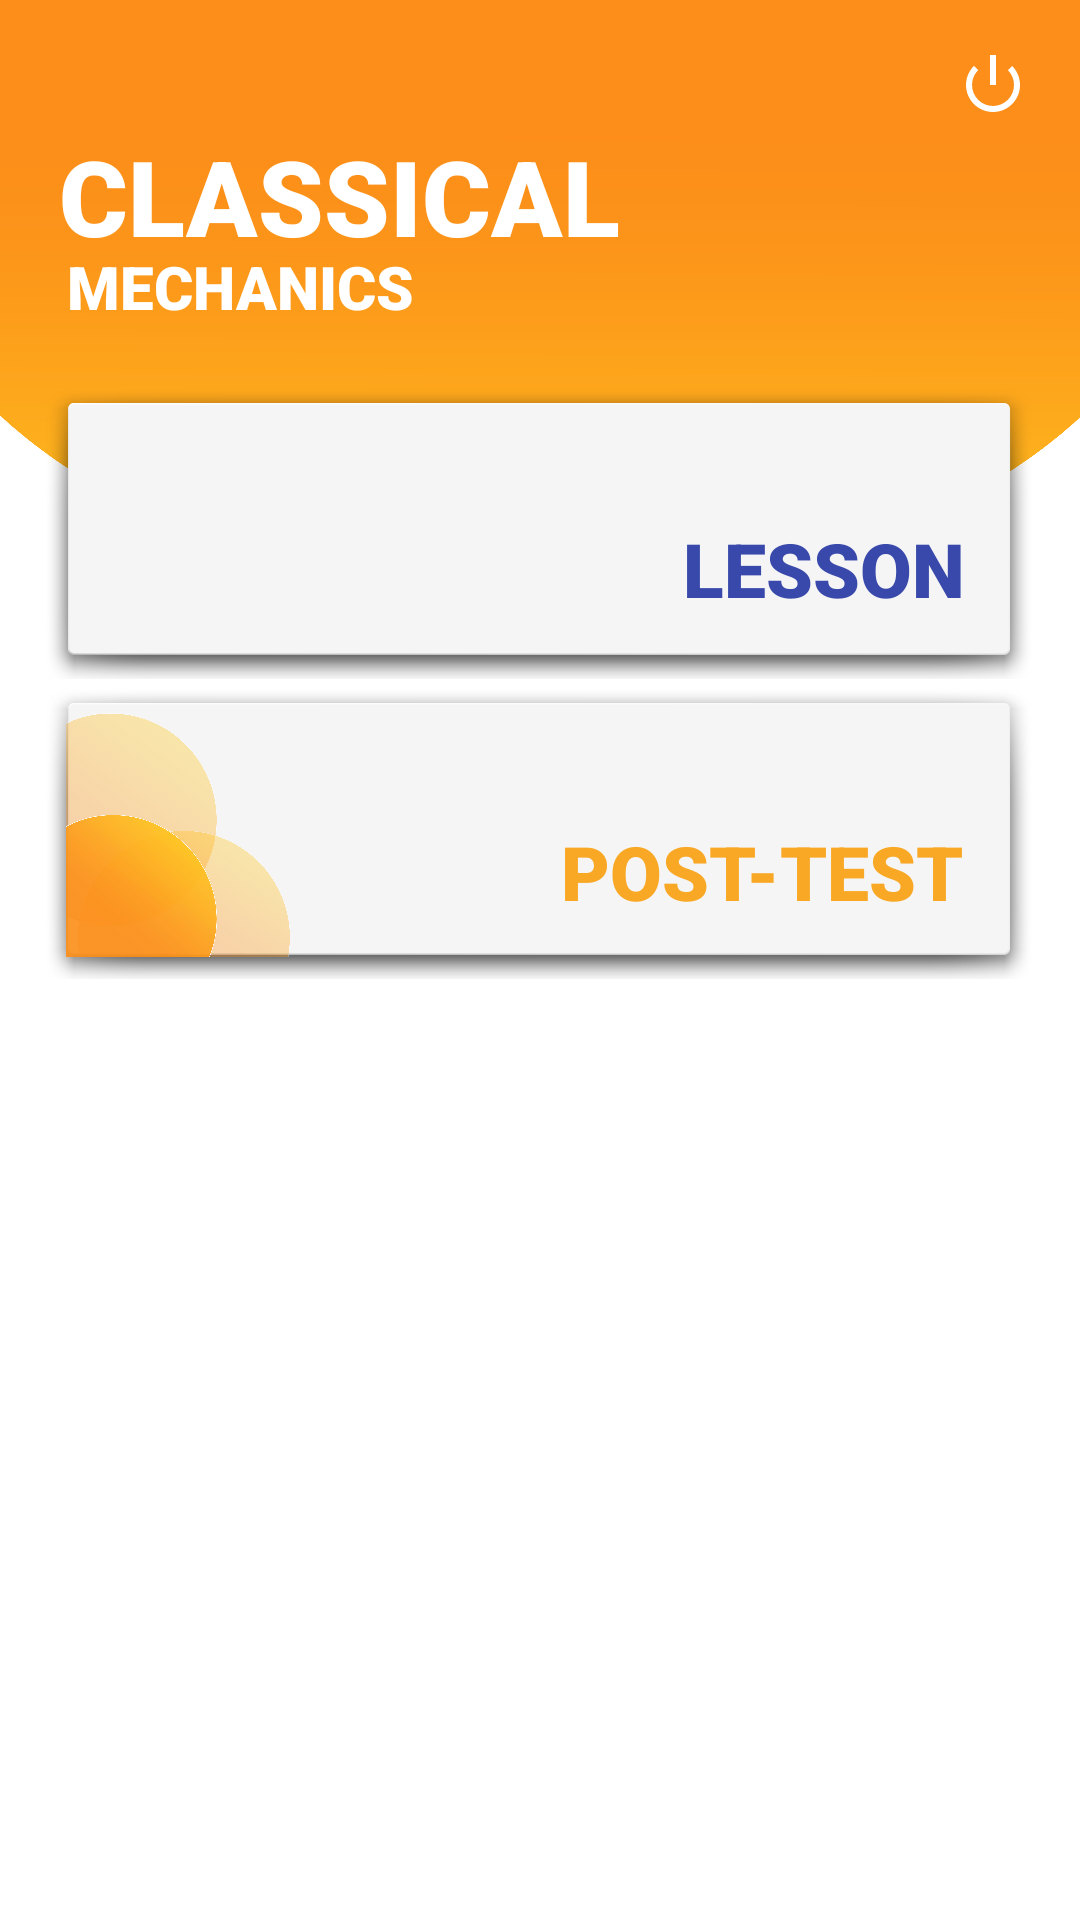

Named icons in this screenshot (1080x1920) and their centers, point (x, y):
lock power off: point (993, 83)
